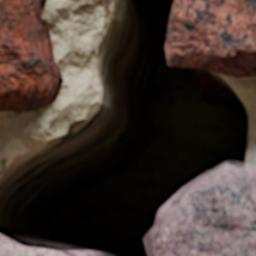brick: (0, 0, 62, 111), (167, 0, 255, 77)
broken_brick: (150, 162, 255, 255), (0, 236, 93, 255)
crack: (0, 0, 255, 255)
